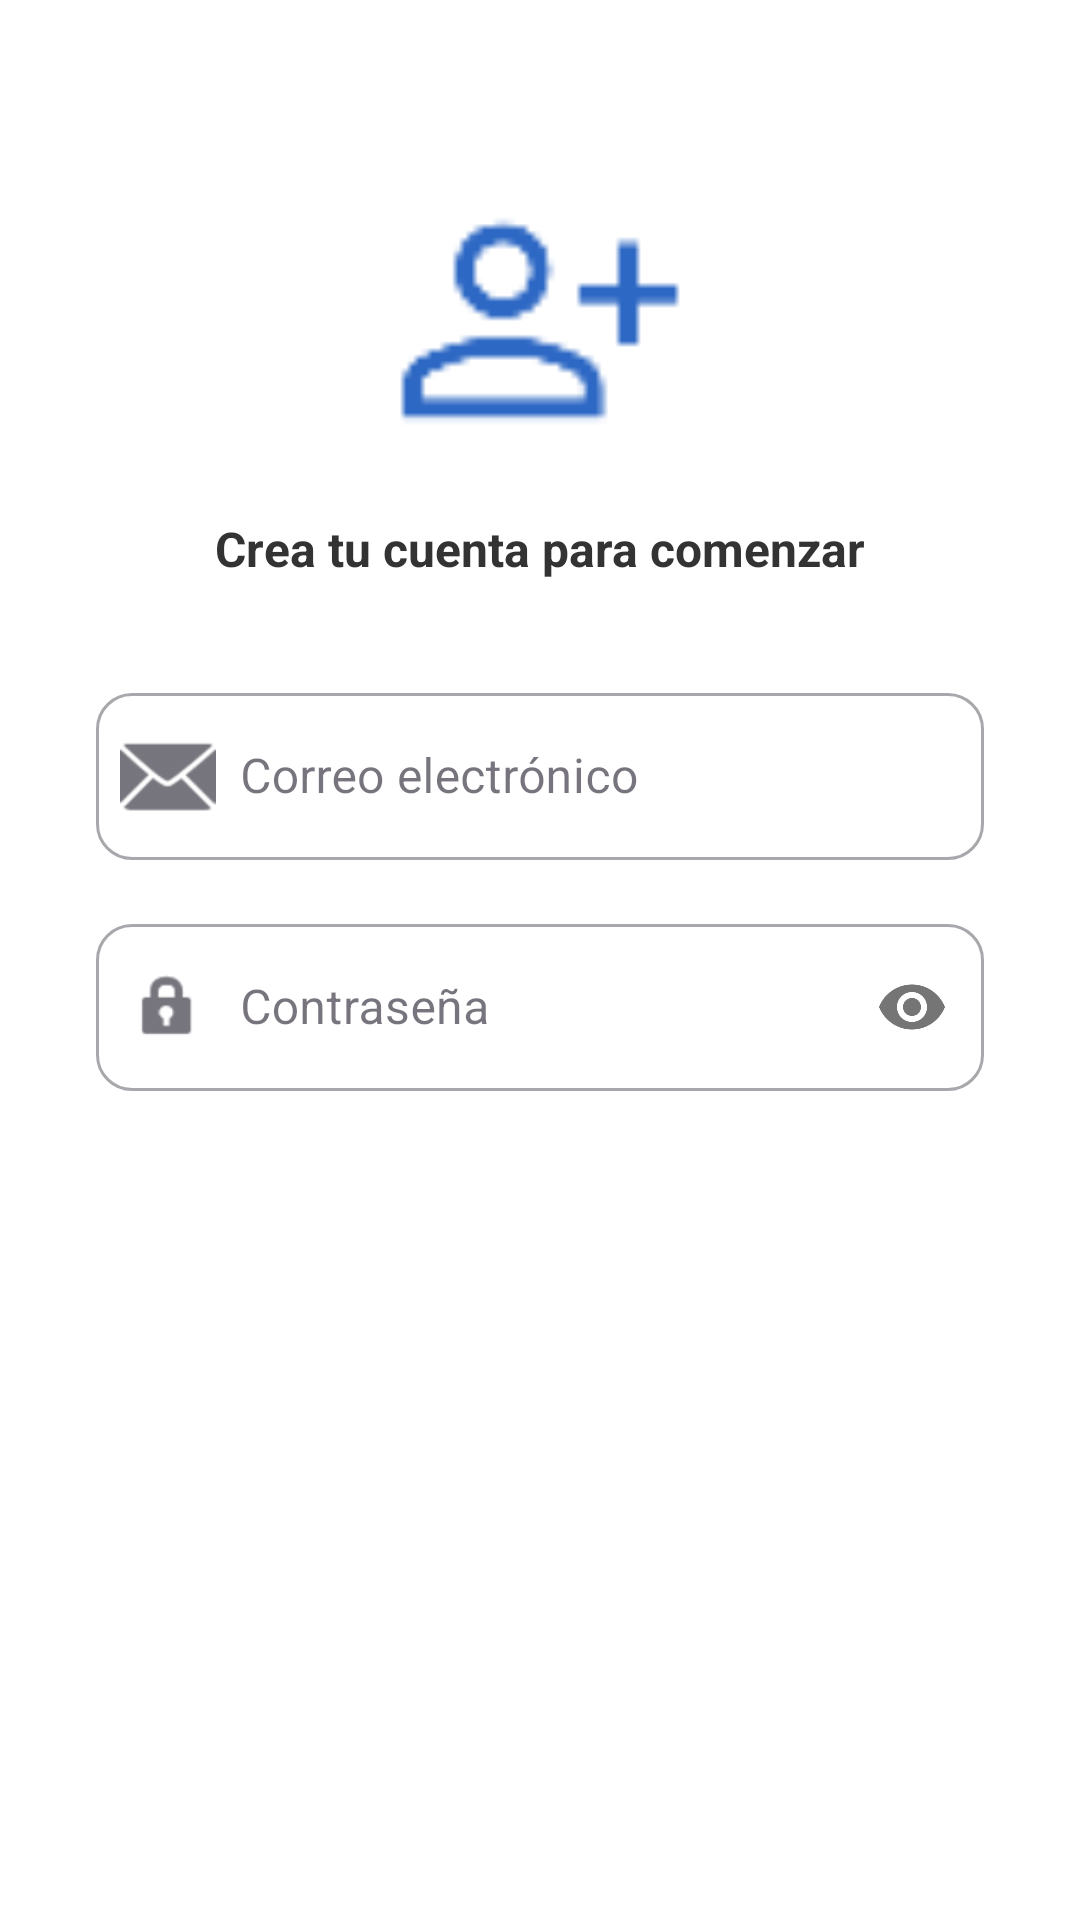

Named icons in this screenshot (1080 × 1920) and their centers, (x,y):
Avatar de registro: (540,320)
